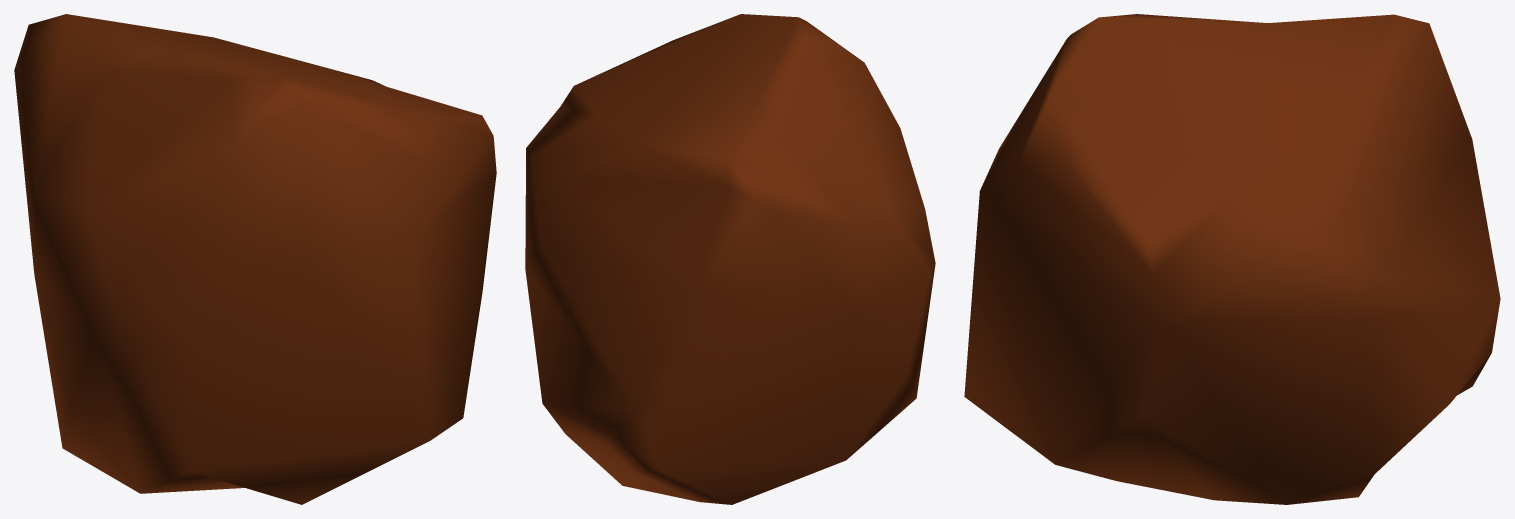
Rendered from FM_M_Well_Stone_04.fbx.
3 views of the same model, side by side, from view 1: azimuth 30°, elevation 25°; view 2: azimuth 150°, elevation 25°; view 3: azimuth 270°, elevation 25° (orthographic). The views are drawn at different scales.
Parts seen in each view (by area): view 1: FM_M_Well_Stone_04; view 2: FM_M_Well_Stone_04; view 3: FM_M_Well_Stone_04.
Boxes of the visible parts, <box> form: FM_M_Well_Stone_04: <box>14,14,496,504</box>; FM_M_Well_Stone_04: <box>525,14,935,504</box>; FM_M_Well_Stone_04: <box>964,14,1500,504</box>.
Bounding box in the file's own units: 0.3165 × 0.3288 × 0.3521.
